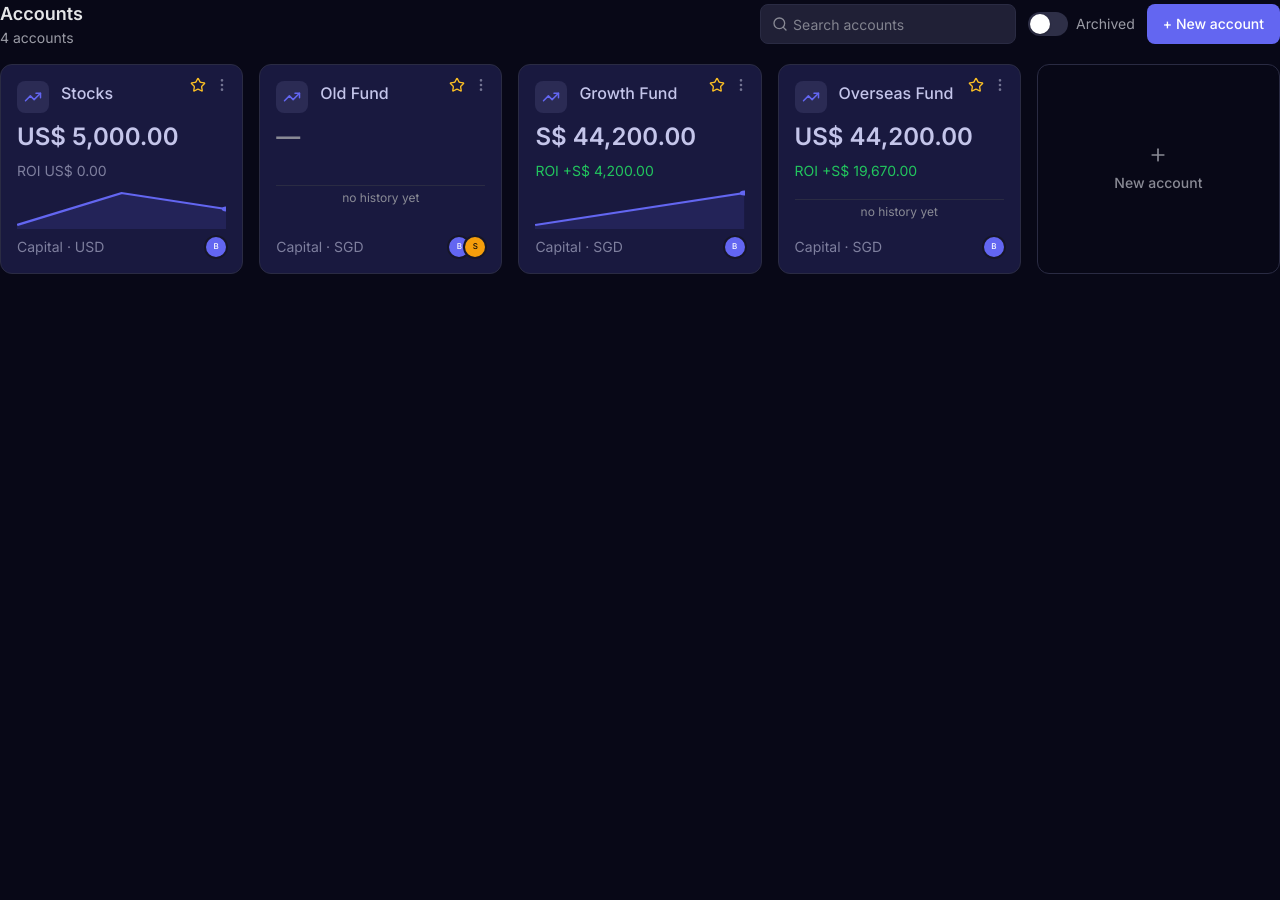
AccountsList › an archived owner resolves to a name in the modal and is not offered to add
This screenshot has width=1280, height=900.
Expected: the text "Old Fund" is shown, 320,83 -> 389,103
# Old Fund (cap1) is owned by p1 (Ben, active) + p3 (Sam, archived).
Click the button named "Actions" next to "Old Fund" at x=473, y=77, box 473,77 -> 489,93
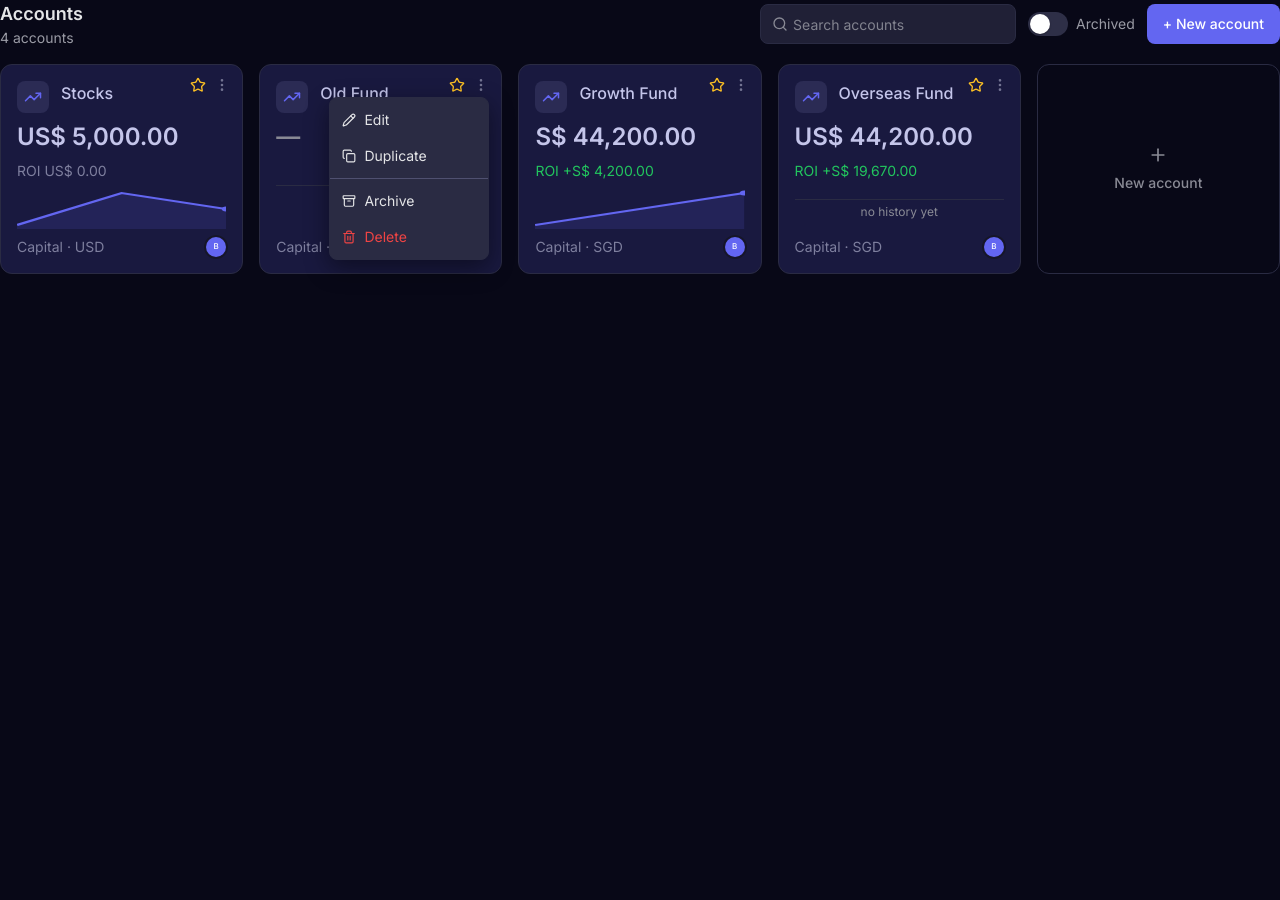
Click the menu item "Edit" at x=409, y=120, box 330,102 -> 488,138
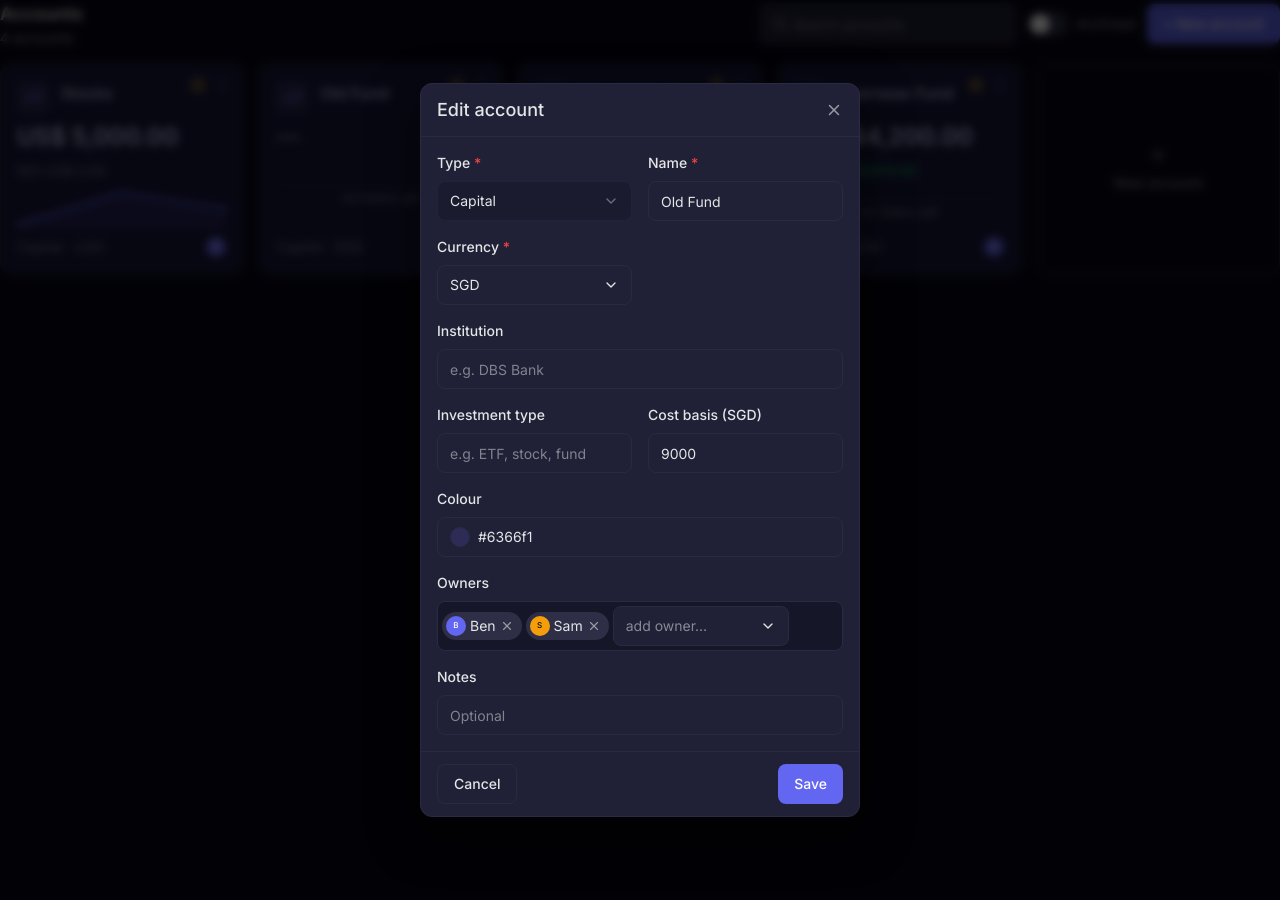
Now the text "Owners" is shown, box 437,574 -> 489,591
Now the text "Sam" is shown, box 554,616 -> 583,636
# The add-owner dropdown offers active members only — Alex (active), never Sam (archived).
Click the button "add owner…" at x=701, y=626, box 613,606 -> 789,646
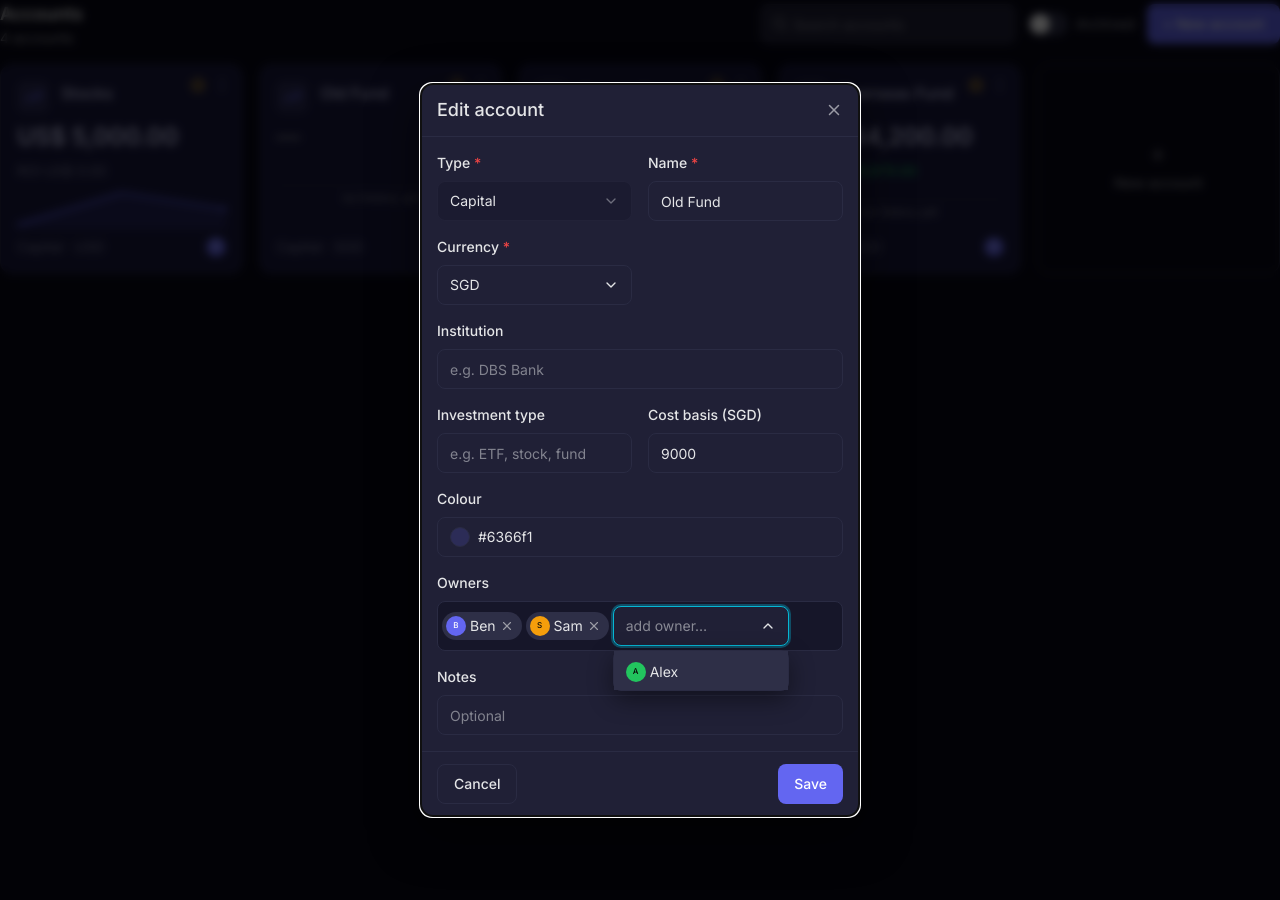
Now the option "A Alex" is shown, box 614,651 -> 788,690
